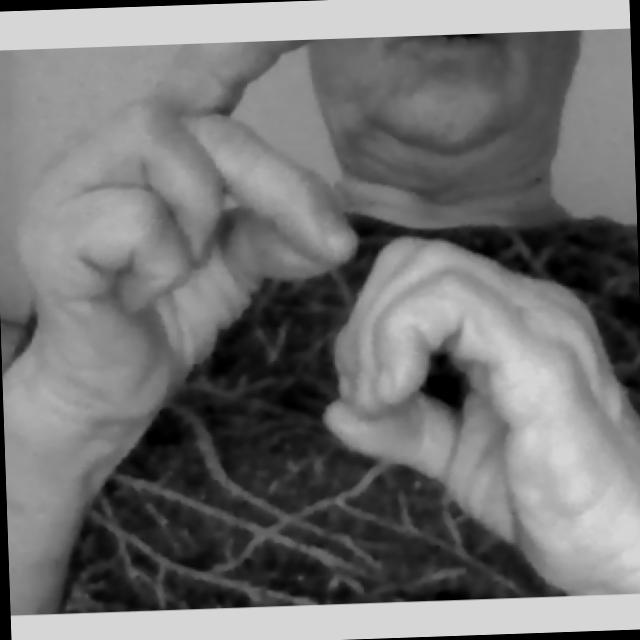O--: (13, 79, 640, 614)
